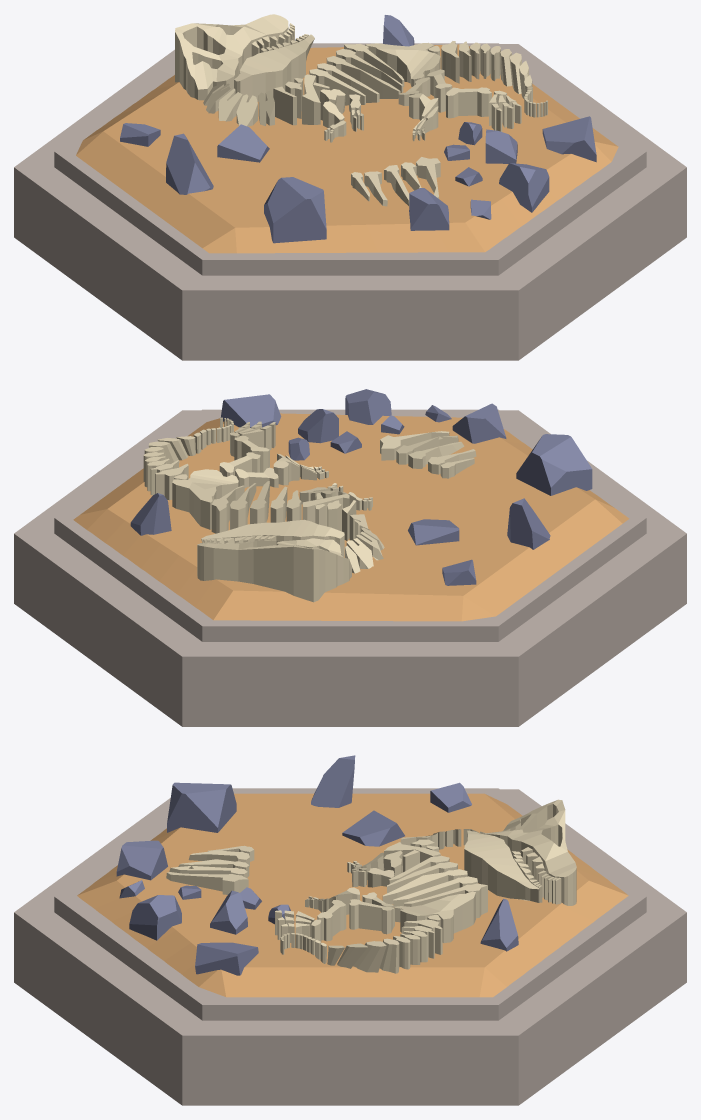
File: dessertHex.glb
3 renders of one model, top to bottom at view 1: azimuth 30°, elevation 25°; view 2: azimuth 150°, elevation 25°; view 3: azimuth 270°, elevation 25°, orthographic.
Visible parts, largest first — view 1: geometry; view 2: geometry; view 3: geometry.
Boxes of the visible parts, left/top/right/bottom form: geometry: left=14, top=14, right=686, bottom=360; geometry: left=14, top=389, right=686, bottom=726; geometry: left=14, top=755, right=686, bottom=1105.
Bounding box in the file's own units: 1.73 × 0.4877 × 2.
